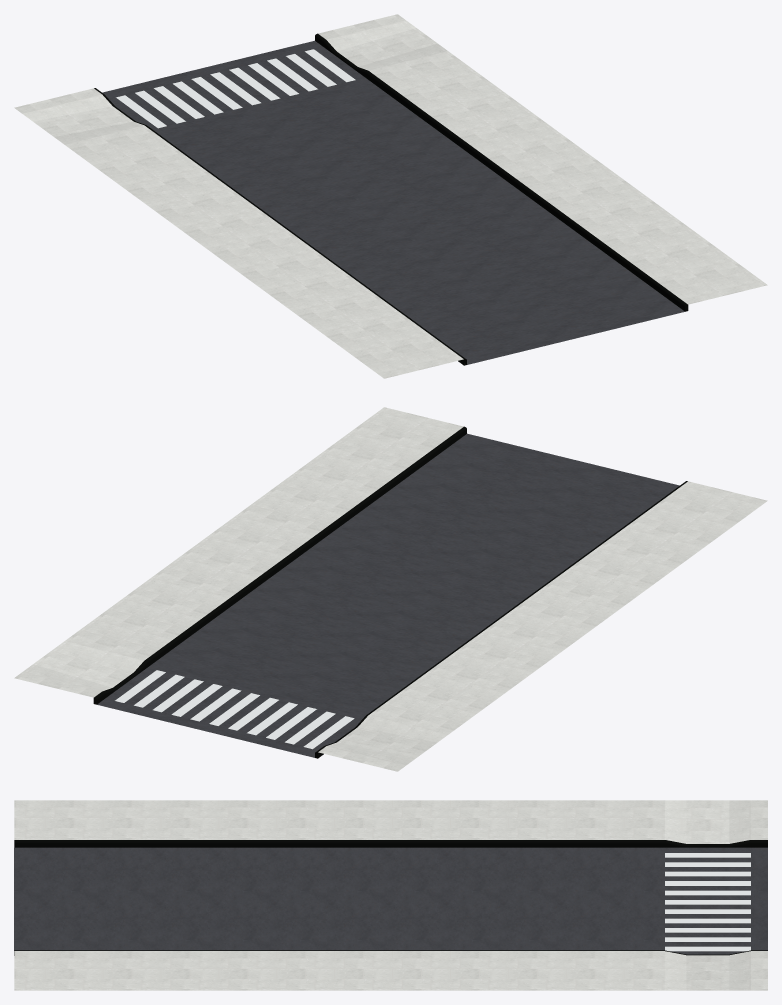
File: esquina 1 carril y 2 estacionamientos 1.fbx
3 renders of one model, top to bottom at view 1: azimuth 30°, elevation 25°; view 2: azimuth 150°, elevation 25°; view 3: azimuth 270°, elevation 25°, orthographic.
Visible parts, largest first — view 1: Plane.021; view 2: Plane.021; view 3: Plane.021.
Part boxes in pixels (x1,y1,x2,y2): Plane.021: (14,14,767,378); Plane.021: (14,407,767,771); Plane.021: (14,800,767,990).
Bounding box in the file's own units: 1196 × 30.85 × 2000.
Materials: 4 (4 with a texture image).
